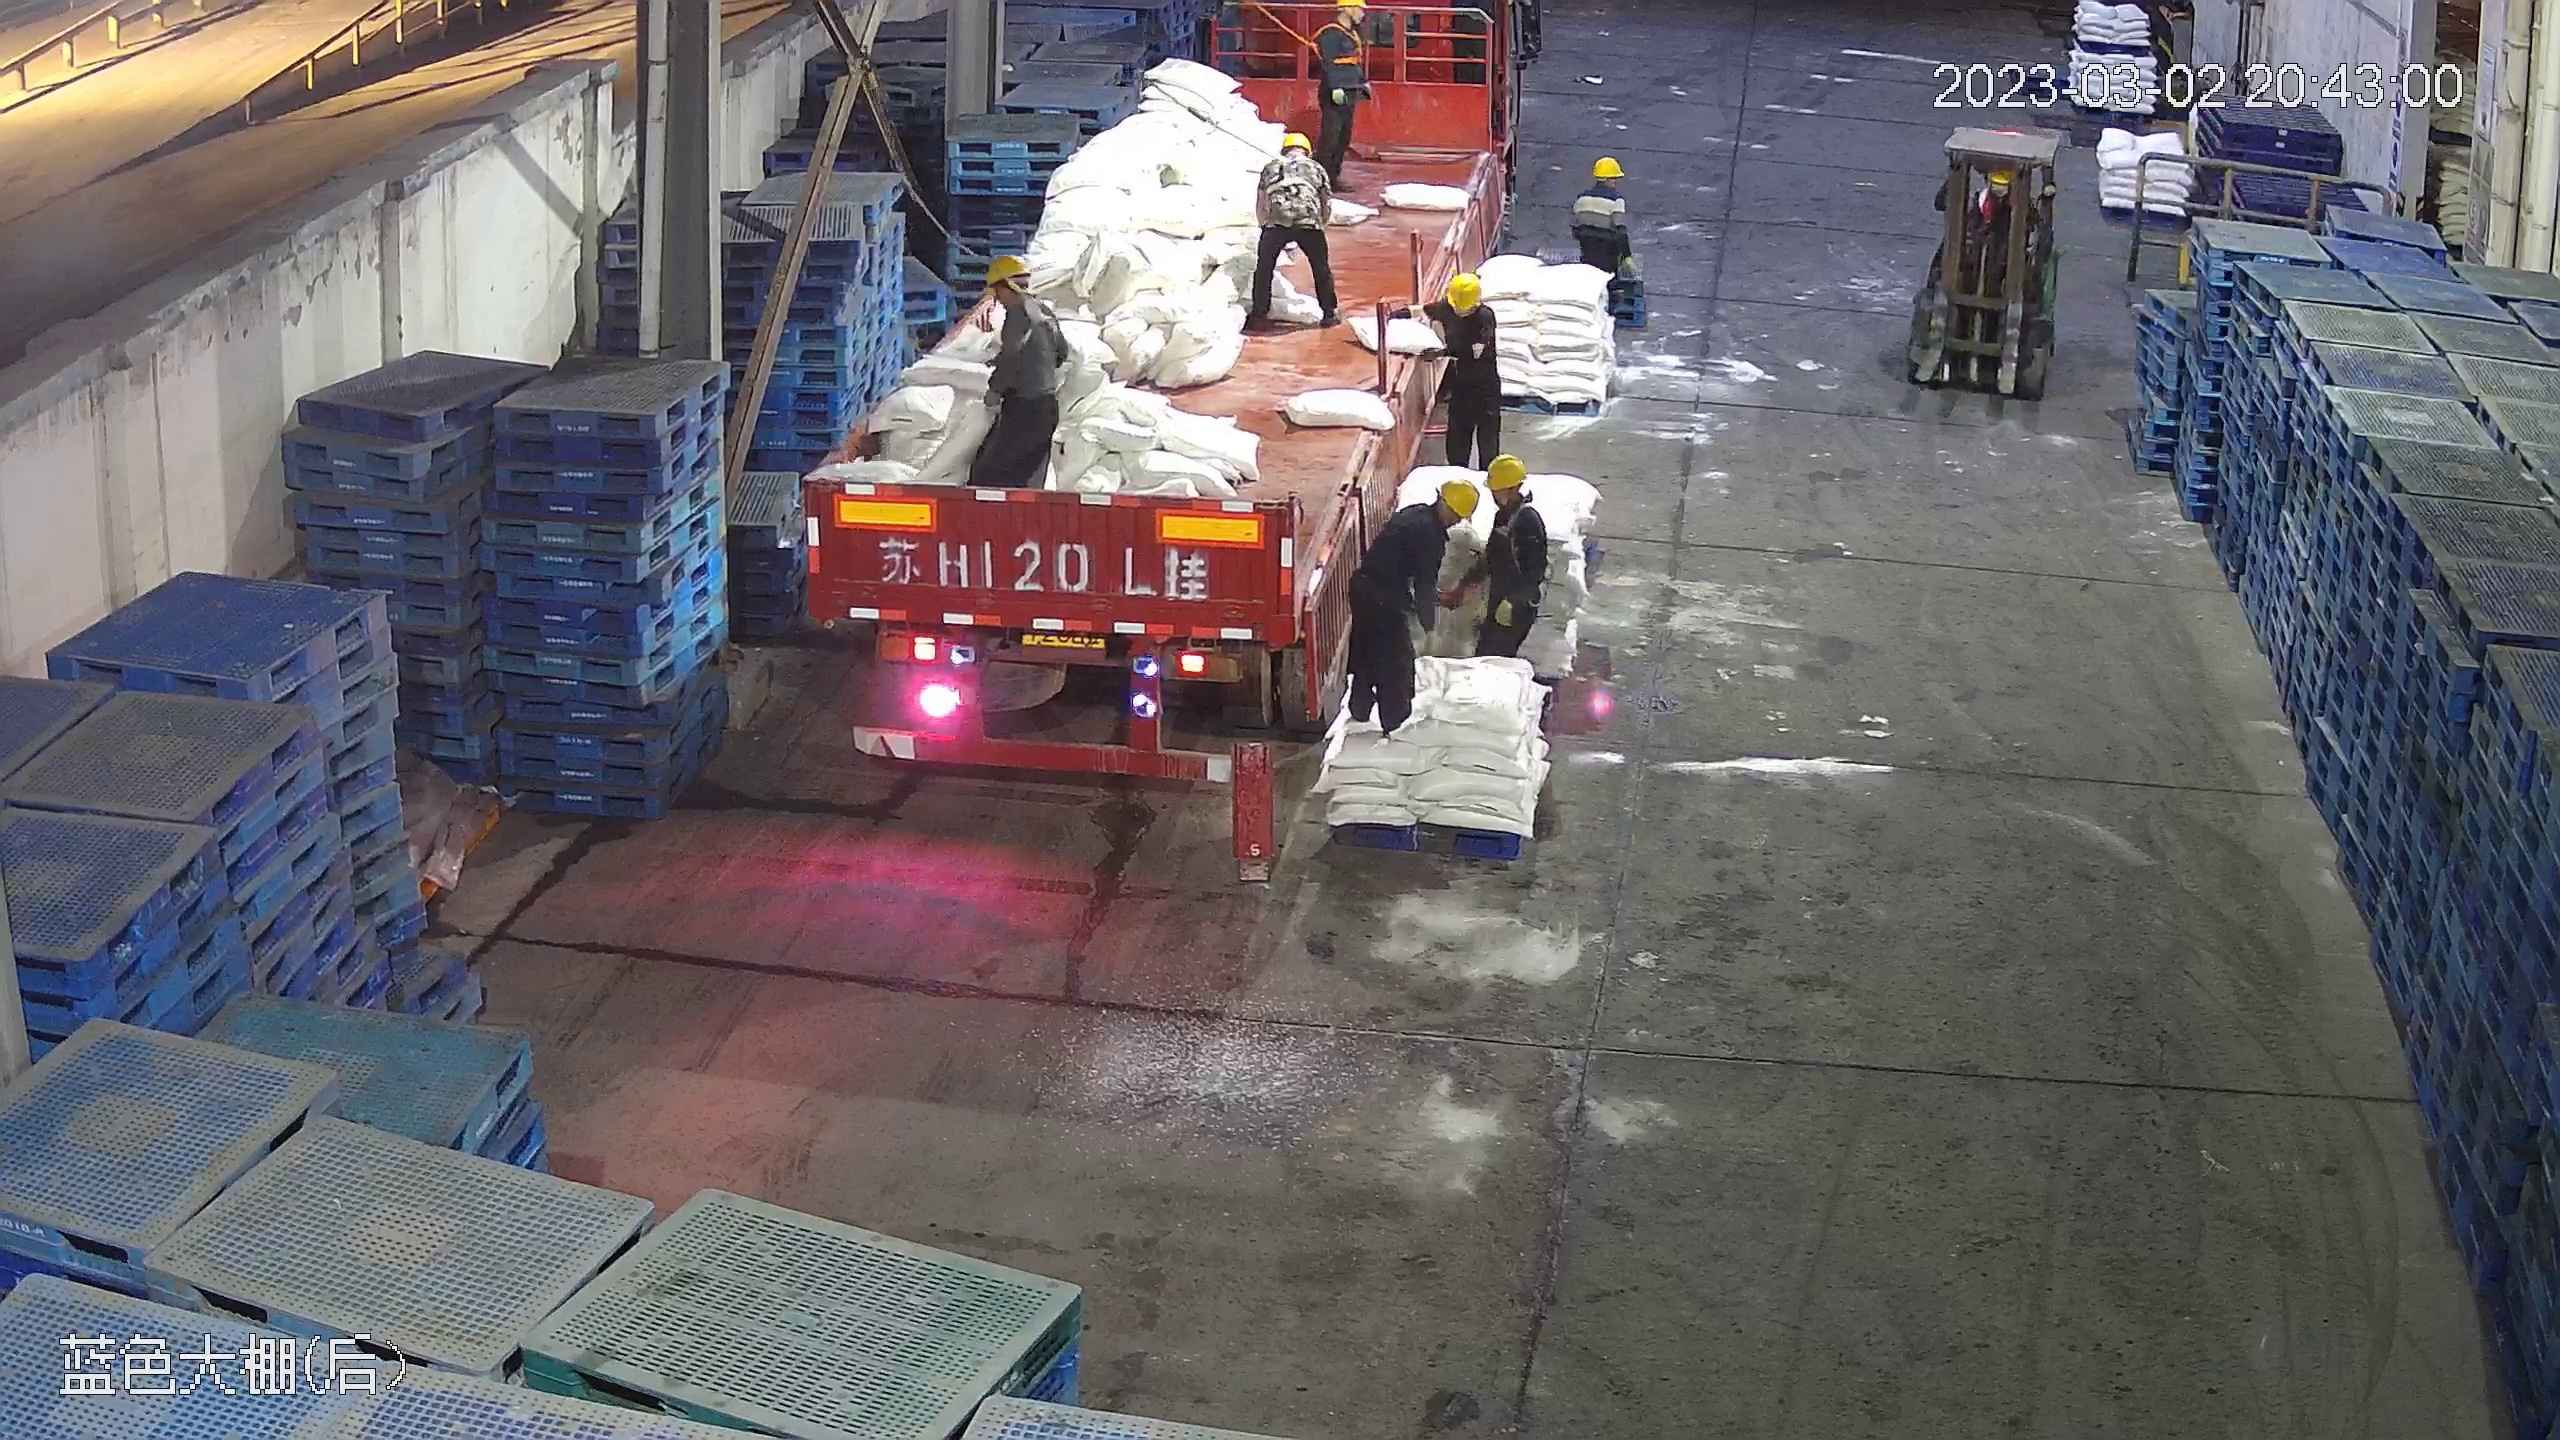belt: (1003, 299, 1070, 372), (1261, 156, 1316, 213), (1317, 17, 1364, 64), (1491, 497, 1533, 536)
head: (1379, 475, 1482, 563), (979, 254, 1057, 337), (1482, 453, 1549, 544), (1434, 269, 1498, 345), (1258, 128, 1324, 189), (1576, 154, 1629, 208), (1313, 1, 1371, 47)
helmet: (1437, 475, 1482, 524), (1484, 452, 1529, 490), (981, 254, 1030, 289), (1443, 270, 1483, 311), (1275, 127, 1310, 153), (1589, 154, 1620, 176)
people: (1337, 475, 1476, 737), (942, 252, 1069, 491), (1242, 127, 1341, 329), (1426, 269, 1503, 479), (1476, 457, 1552, 667), (1305, 1, 1378, 197), (1573, 154, 1637, 328)
truck: (794, 14, 1519, 826)
